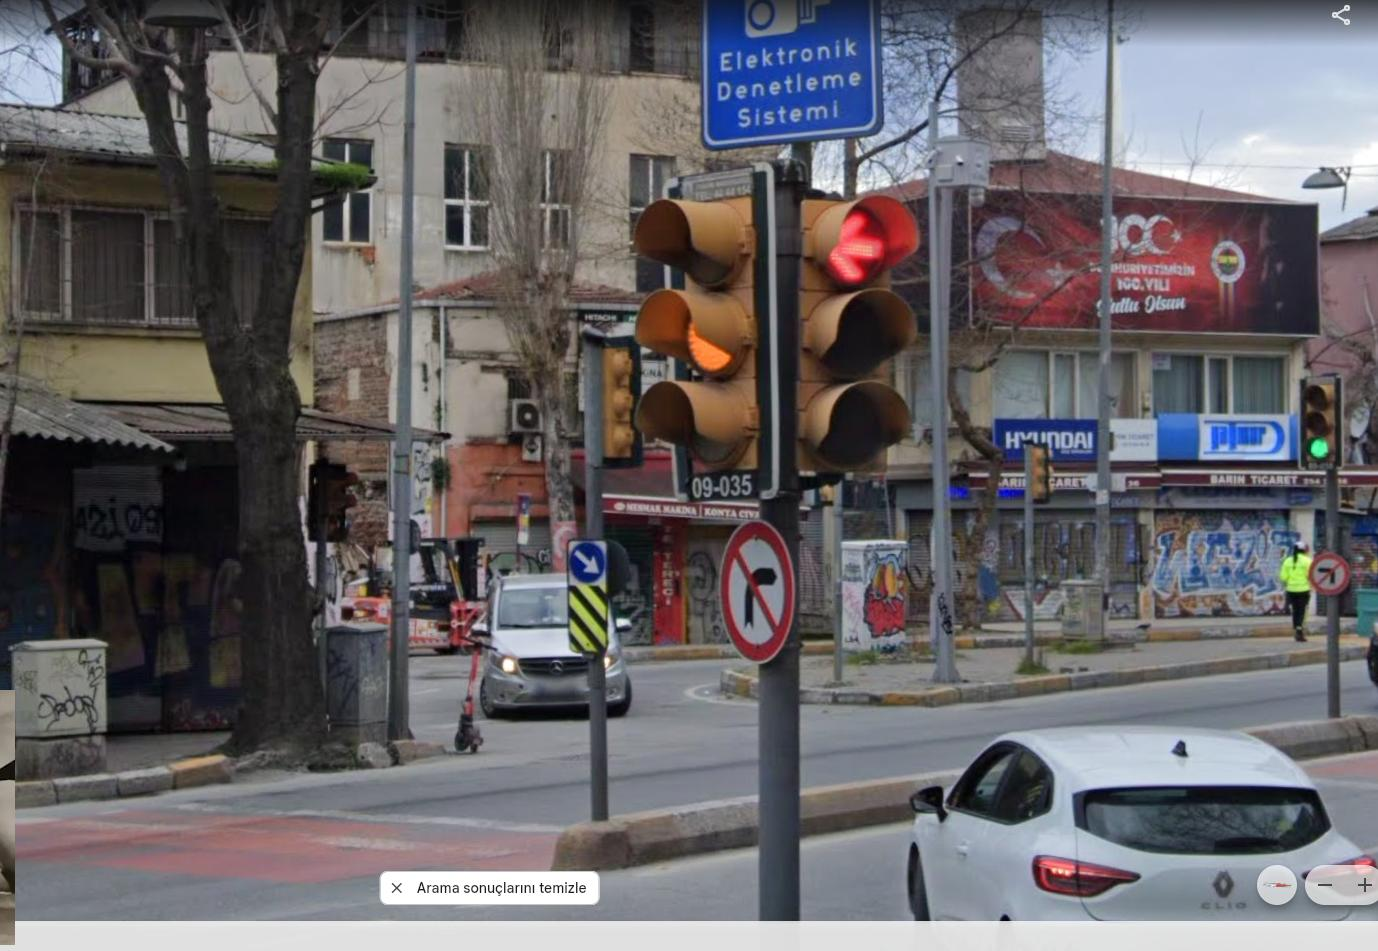greenlight: (1301, 375, 1340, 471)
redlight: (794, 182, 892, 471)
rightturnsareforbidden: (724, 528, 787, 669)
yellowlight: (657, 170, 776, 501)
